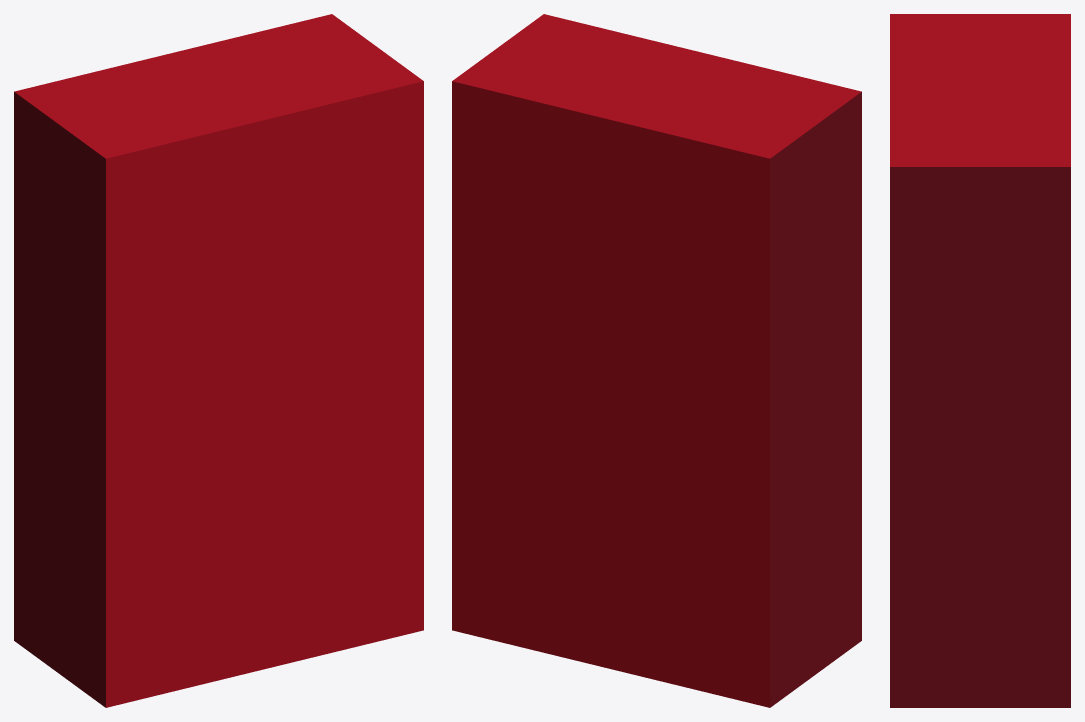
File: book_9.gltf
The picture shows the model from 3 angles, left to right: view 1: azimuth 30°, elevation 25°; view 2: azimuth 150°, elevation 25°; view 3: azimuth 270°, elevation 25°; orthographic projection.
Visible parts, largest first — view 1: cuboid; view 2: cuboid; view 3: cuboid.
Boxes of the visible parts, x1=… form: cuboid: x1=14, y1=14, x2=423, y2=707; cuboid: x1=452, y1=14, x2=861, y2=707; cuboid: x1=890, y1=14, x2=1070, y2=707.
Size of the model in its own units: 0.125 by 0.2062 by 0.0625.
Materials: 1 (1 with a texture image).
